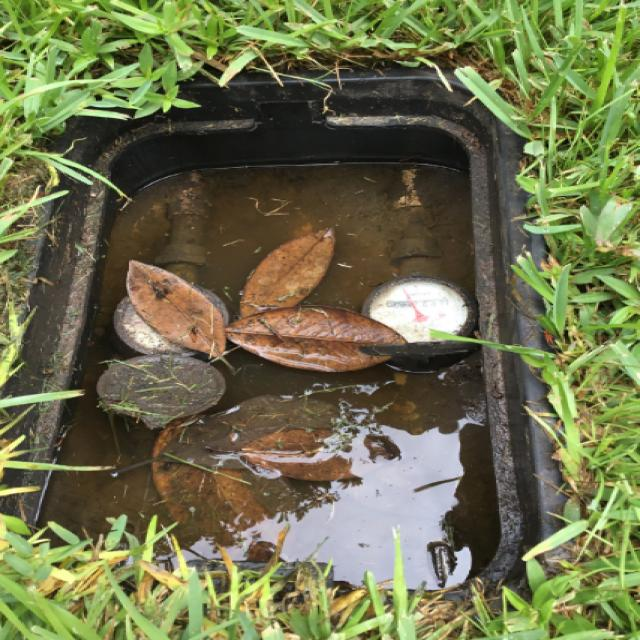Breeding Place: (0, 64, 582, 630)
